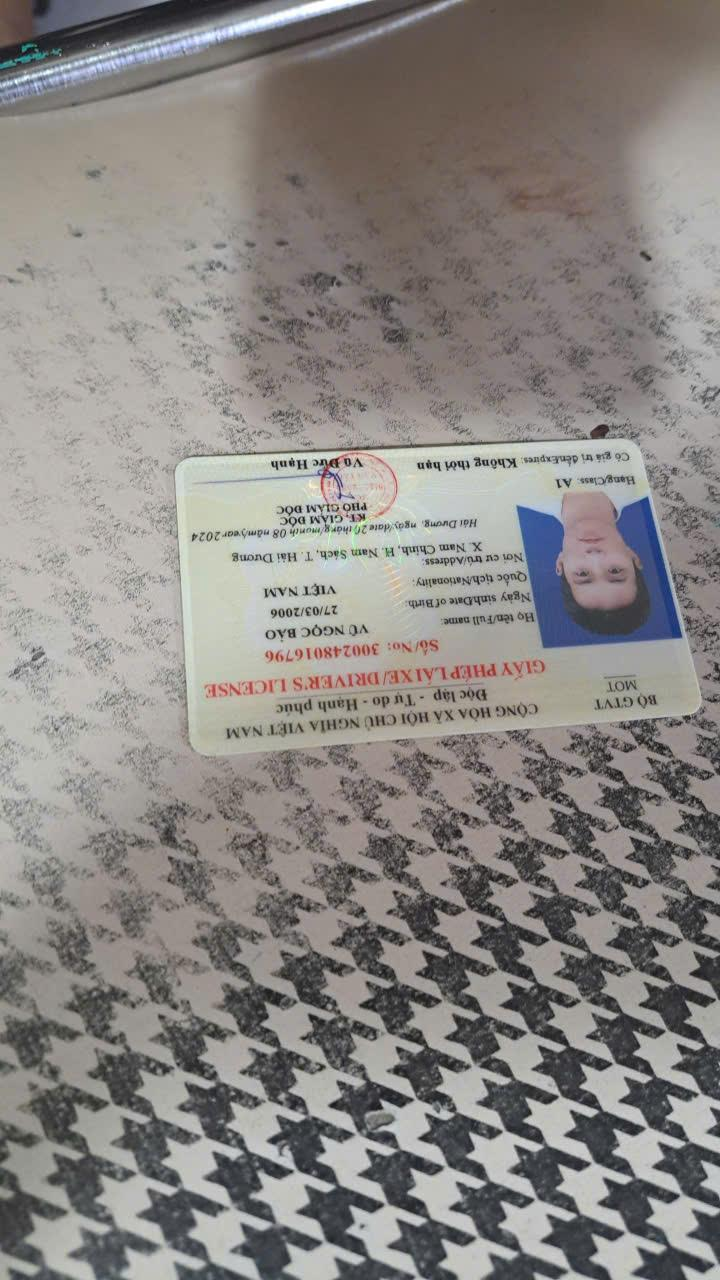gplx: (166, 431, 710, 762)
